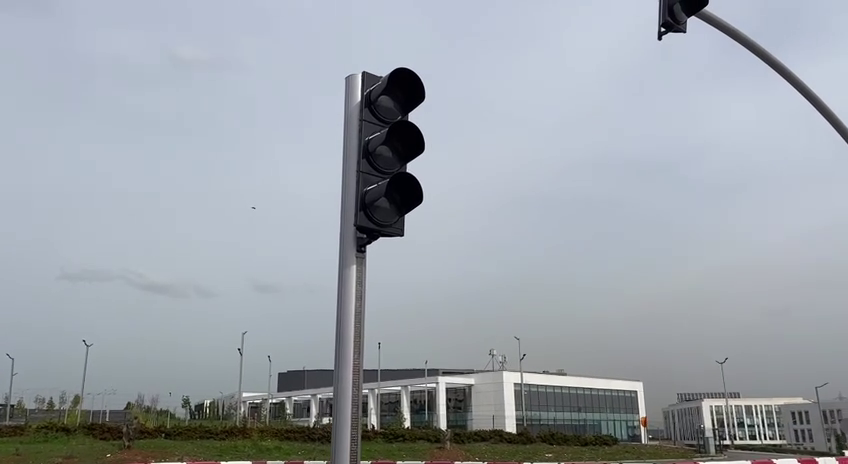trafficLight: (339, 64, 428, 248), (653, 1, 711, 43)
